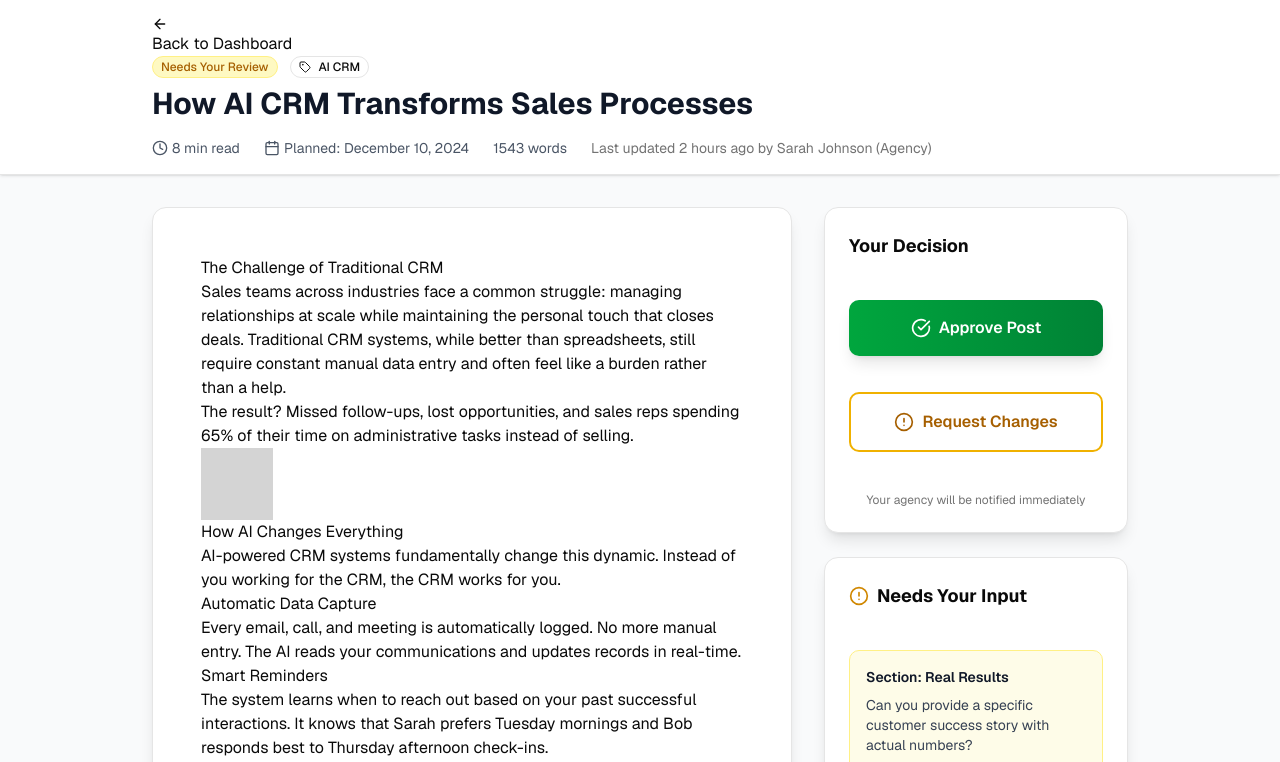
Test: Client Portal - Post Review Page › opens change request modal when request changes is clicked
Step 1. Click the button "Request Changes" → (976, 422), box [849,392,1103,452]
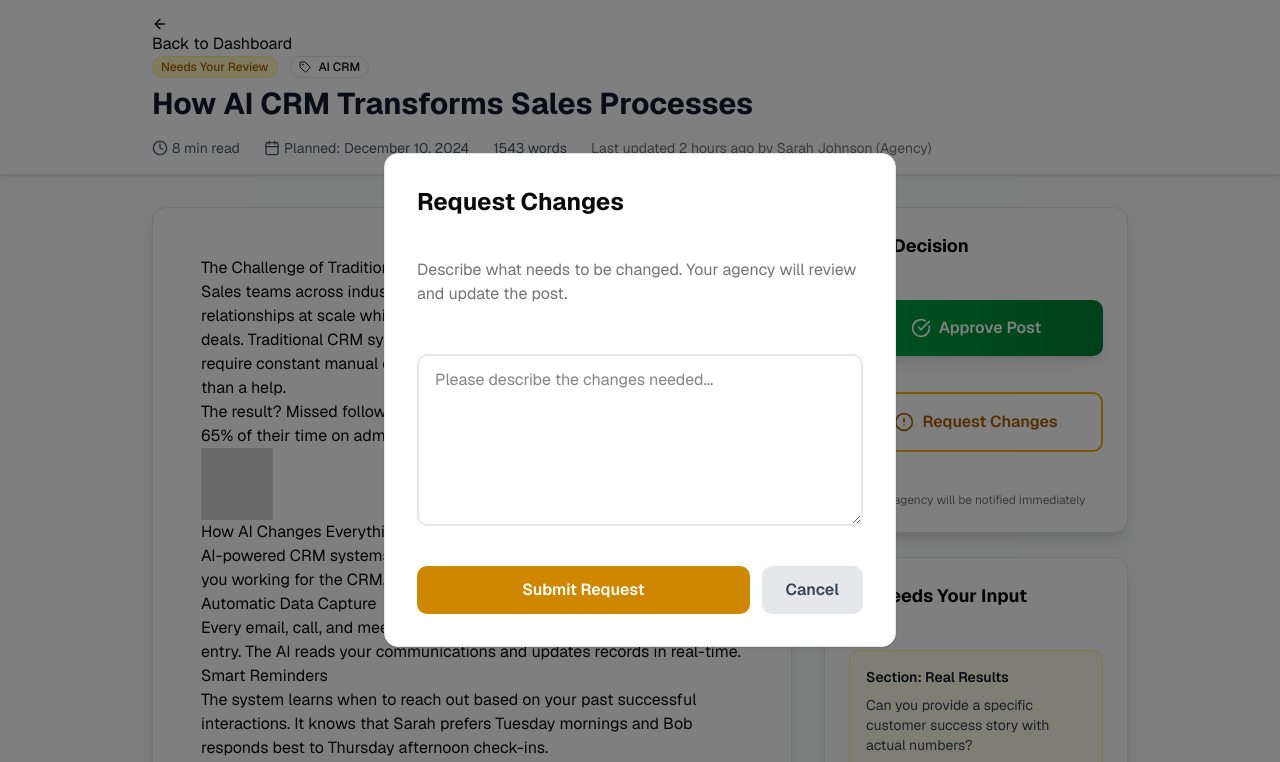
Expected: the text "Describe what needs to be changed" is shown, [417,259,856,304]
